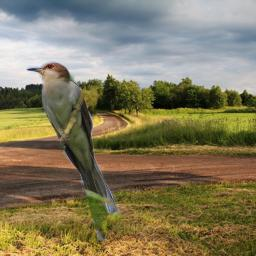Cuckoo: (26, 61, 122, 242)
